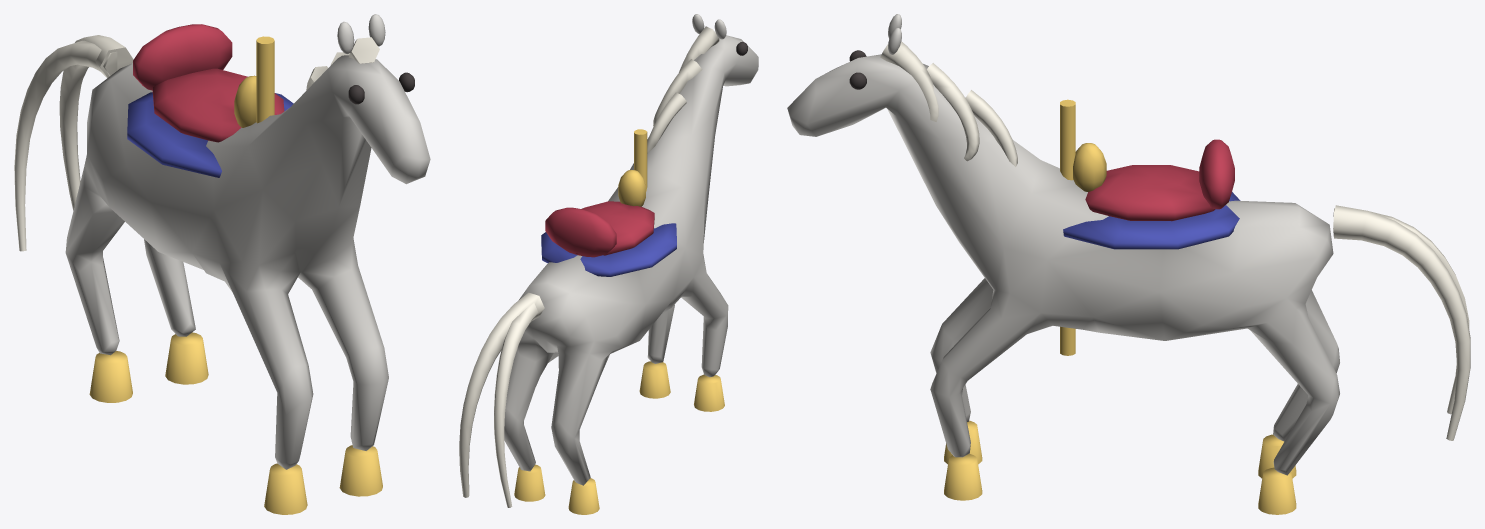
Rendered from carousel_horse_lod.glb.
3 views of the same model, side by side, from view 1: azimuth 30°, elevation 25°; view 2: azimuth 150°, elevation 25°; view 3: azimuth 270°, elevation 25° (orthographic). The views are drawn at different scales.
Parts seen in each view (by area): view 1: carousel_horse_lod; view 2: carousel_horse_lod; view 3: carousel_horse_lod.
Part boxes in pixels (left/top/right/bottom): carousel_horse_lod: left=14, top=14, right=430, bottom=514; carousel_horse_lod: left=459, top=14, right=758, bottom=514; carousel_horse_lod: left=787, top=14, right=1470, bottom=514.
Bounding box in the file's own units: 0.612 × 1.98 × 2.61.
